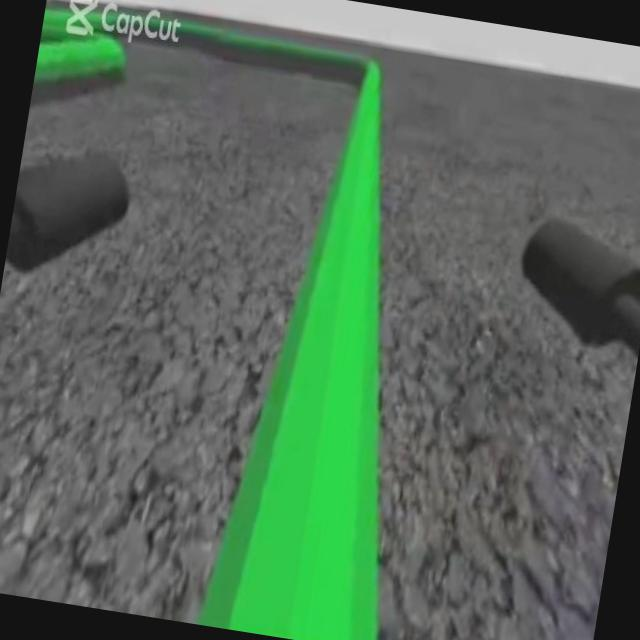gas: (194, 76, 465, 640)
